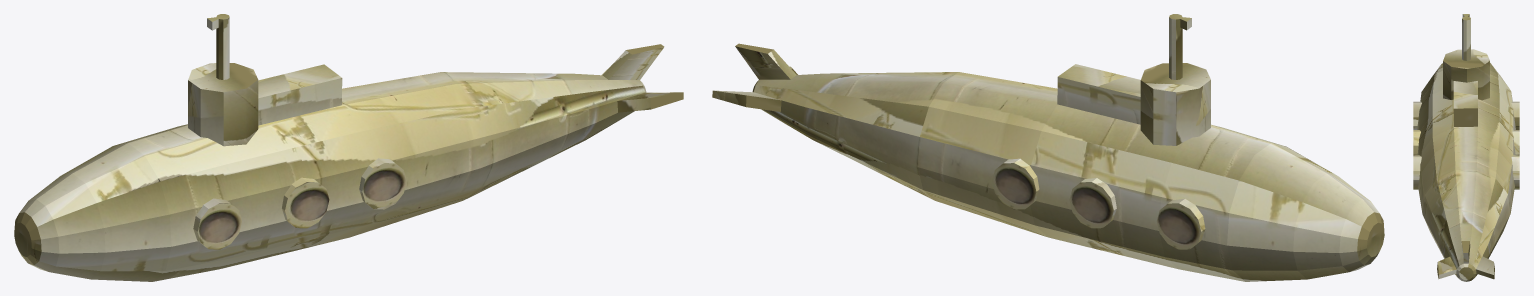
Rendered from submarine.glb.
3 views of the same model, side by side, from view 1: azimuth 30°, elevation 25°; view 2: azimuth 150°, elevation 25°; view 3: azimuth 270°, elevation 25° (orthographic). The views are drawn at different scales.
Parts seen in each view (by area): view 1: Cylinder; view 2: Cylinder; view 3: Cylinder.
Boxes of the visible parts, x1,y1,x2,y2 form: Cylinder: [14, 14, 683, 281]; Cylinder: [712, 14, 1384, 281]; Cylinder: [1413, 14, 1519, 281].
Bounding box in the file's own units: 6.21 × 2.24 × 1.32.
Materials: 1 (1 with a texture image).
